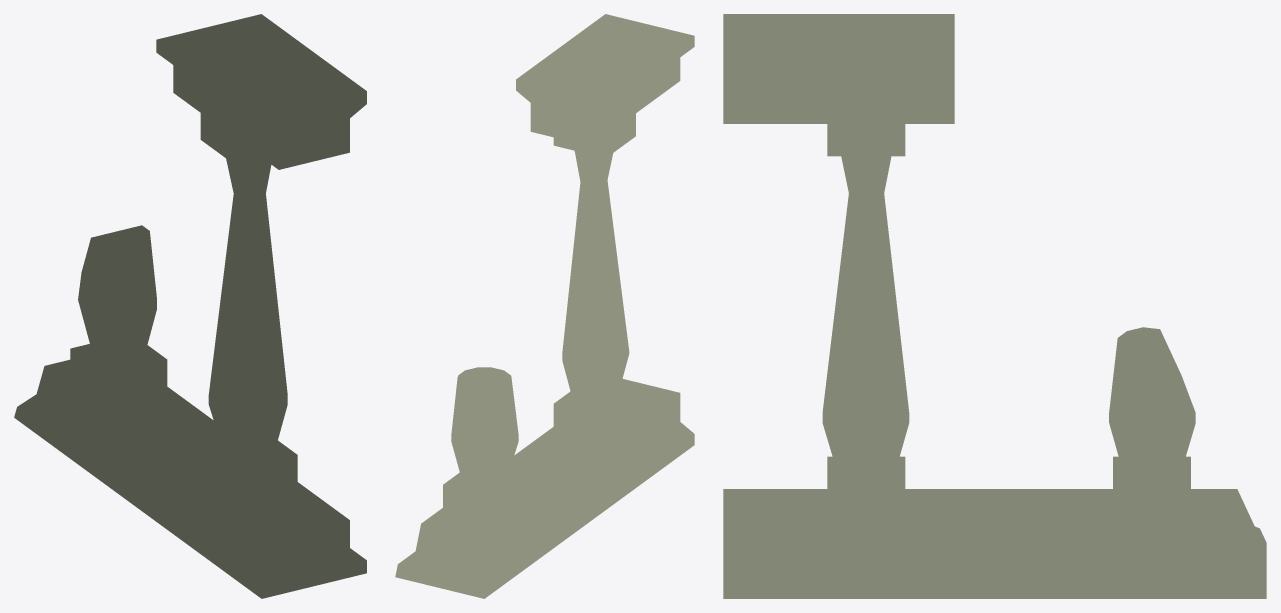
The model's file is railing_broken.dae.
The picture shows the model from 3 angles, left to right: view 1: azimuth 30°, elevation 25°; view 2: azimuth 150°, elevation 25°; view 3: azimuth 270°, elevation 25°; orthographic projection. The views are drawn at different scales.
Parts seen in each view (by area): view 1: cube2_cut3-0; view 2: cube2_cut3-0; view 3: cube2_cut3-0.
Part boxes in pixels (x1=…): cube2_cut3-0: x1=14, y1=14, x2=366, y2=598; cube2_cut3-0: x1=395, y1=14, x2=694, y2=598; cube2_cut3-0: x1=723, y1=14, x2=1266, y2=598.
Bounding box in the file's own units: 0.1466 × 0.6424 × 0.5982.
